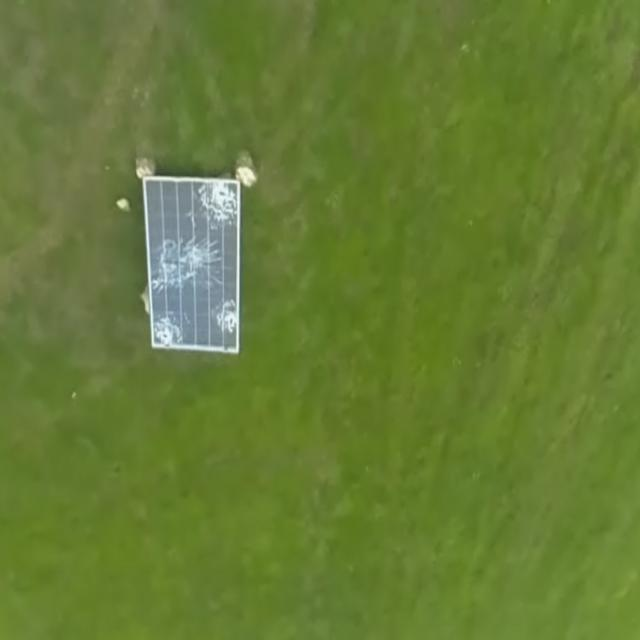faulty: (144, 178, 242, 352)
